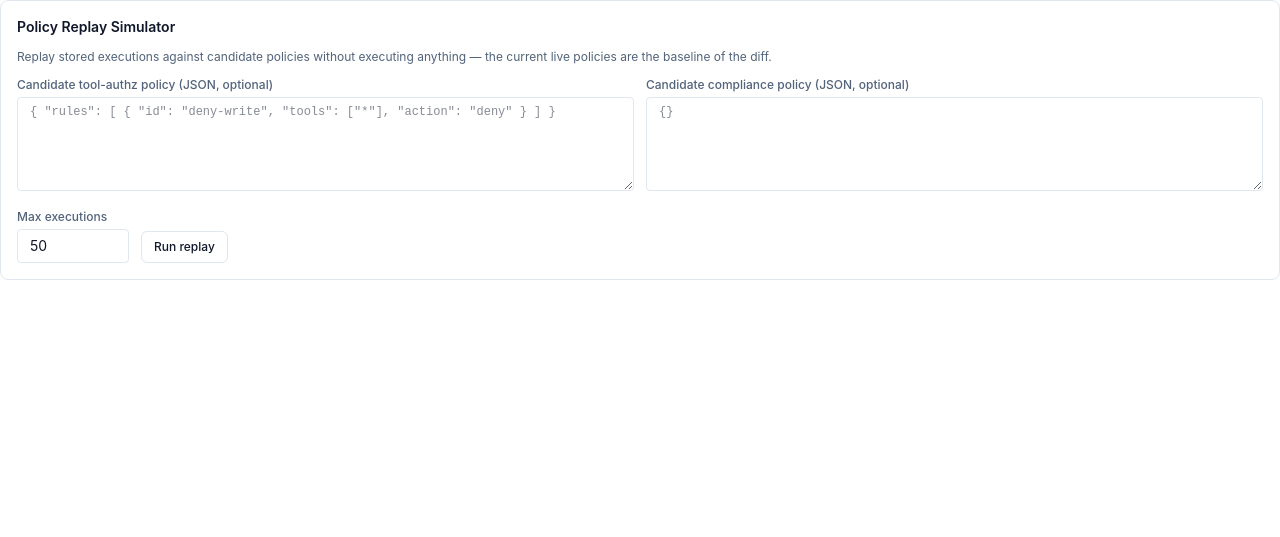
Scenario: PolicyReplayPanel — dry-run replay UI › only-changed filter off shows unchanged executions too
This screenshot has width=1280, height=537.
Click the button "Run replay".
click(184, 247)  # box x1=141 y1=231 x2=228 y2=263
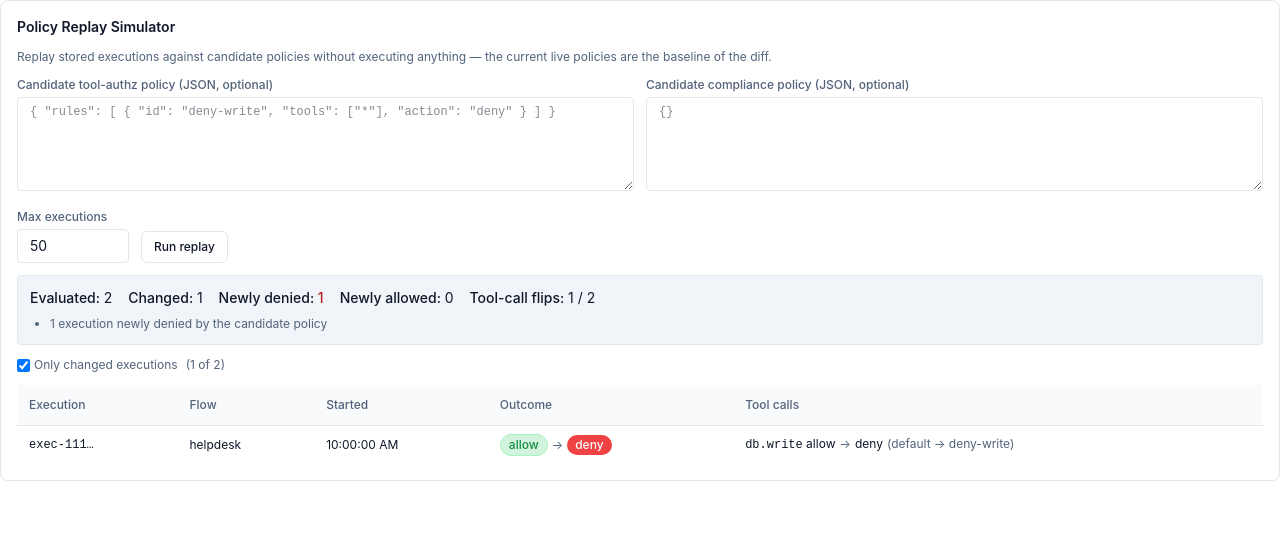
Result: the text "helpdesk" is shown at x1=178 y1=425 x2=314 y2=464
Click the checkbox labelled "Only changed executions".
click(24, 366)  # box x1=17 y1=359 x2=30 y2=372
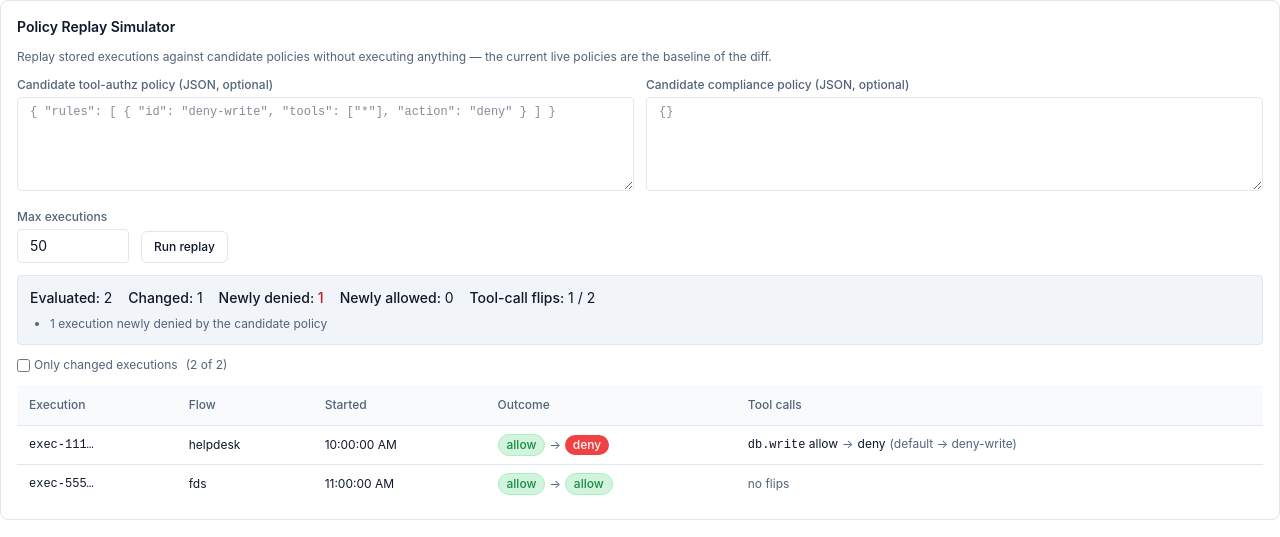
Result: the text "fds" is shown at x1=177 y1=464 x2=313 y2=502
